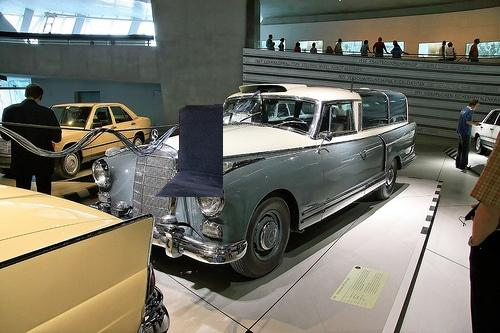tampered: (155, 105, 223, 197)
